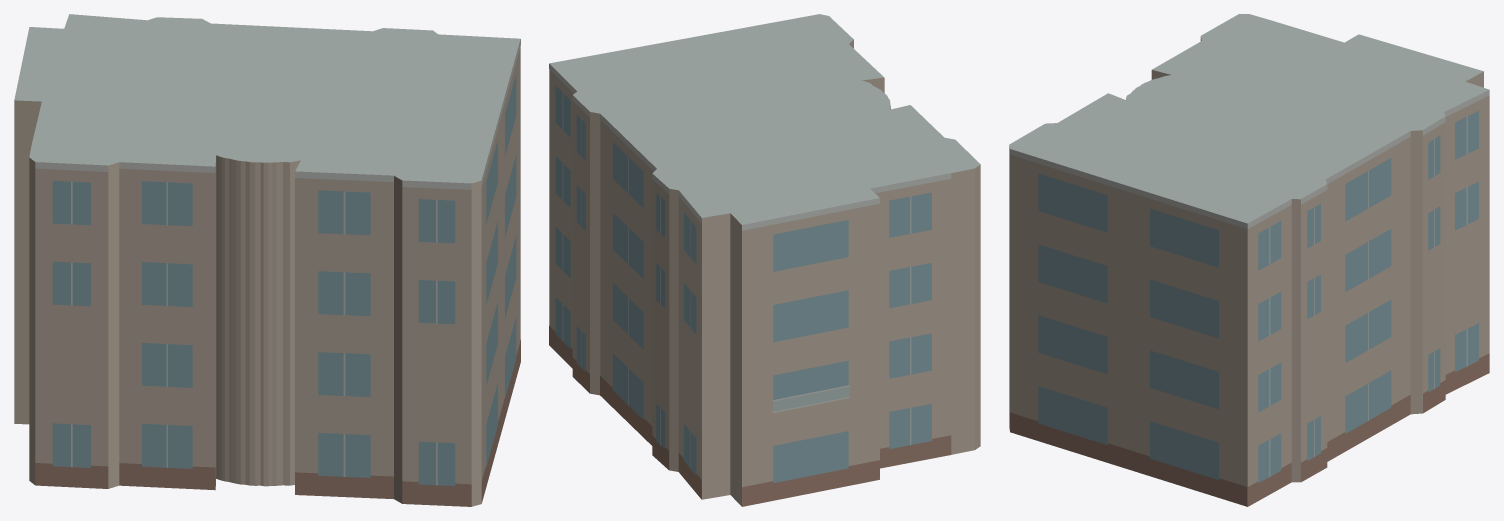
Rendered from survey-upis-32630876.glb.
3 views of the same model, side by side, from view 1: azimuth 30°, elevation 25°; view 2: azimuth 150°, elevation 25°; view 3: azimuth 270°, elevation 25° (orthographic). The views are drawn at different scales.
Parts seen in each view (by area): view 1: survey-upis-32630876.tmp; view 2: survey-upis-32630876.tmp; view 3: survey-upis-32630876.tmp.
Part boxes in pixels (x1,y1,x2,y2): survey-upis-32630876.tmp: [14, 14, 520, 506]; survey-upis-32630876.tmp: [549, 14, 980, 506]; survey-upis-32630876.tmp: [1009, 14, 1489, 506].
Size of the model in its own units: 19.21 by 12.1 by 18.6.
